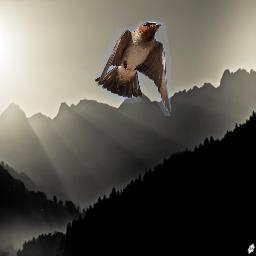Swallow: (95, 21, 171, 116)
